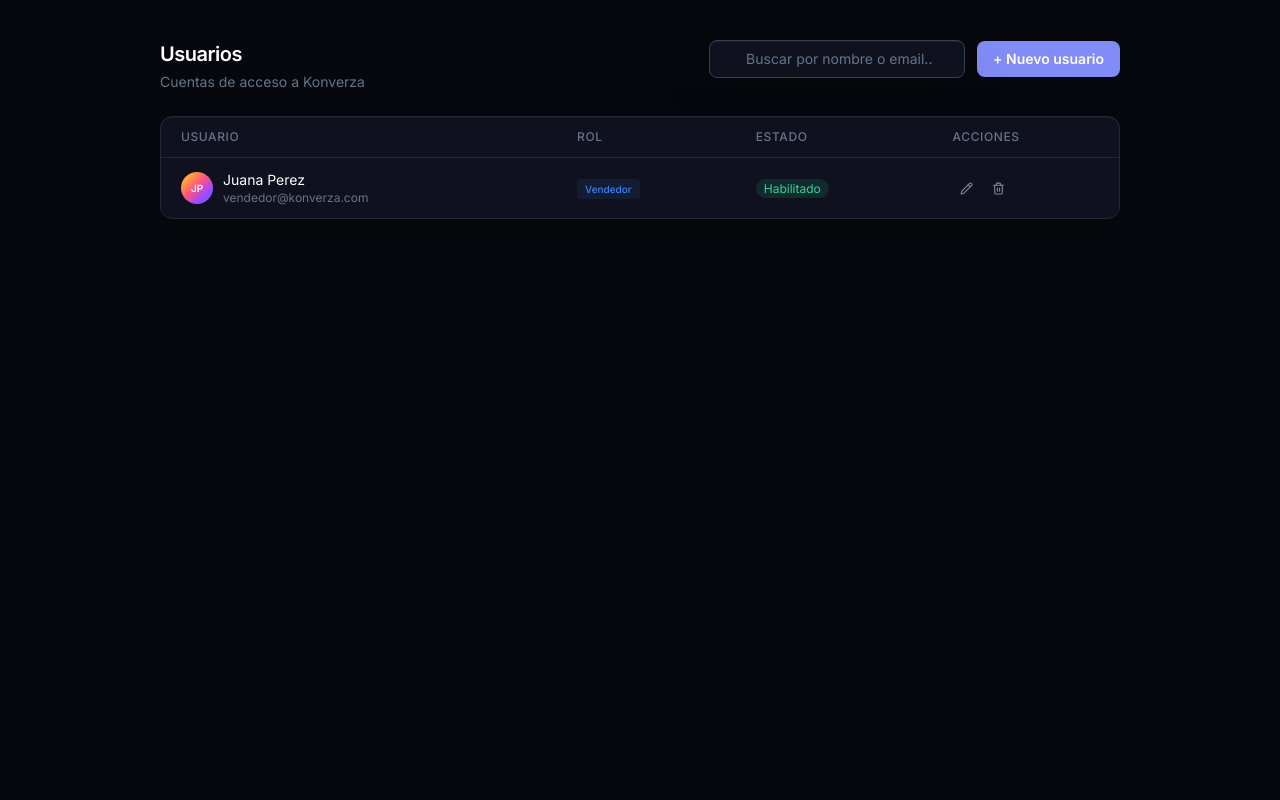
Scenario: UsersScreen › create form collects first name, last name, email, and password
This screenshot has width=1280, height=800.
Expected: the text "Juana Perez" is shown, [223,171,305,188]
What coordinates should you click on to do the following:
click the button "+ Nuevo usuario"
I would click on:
 (1049, 59)
Its box is [977,41,1120,77].
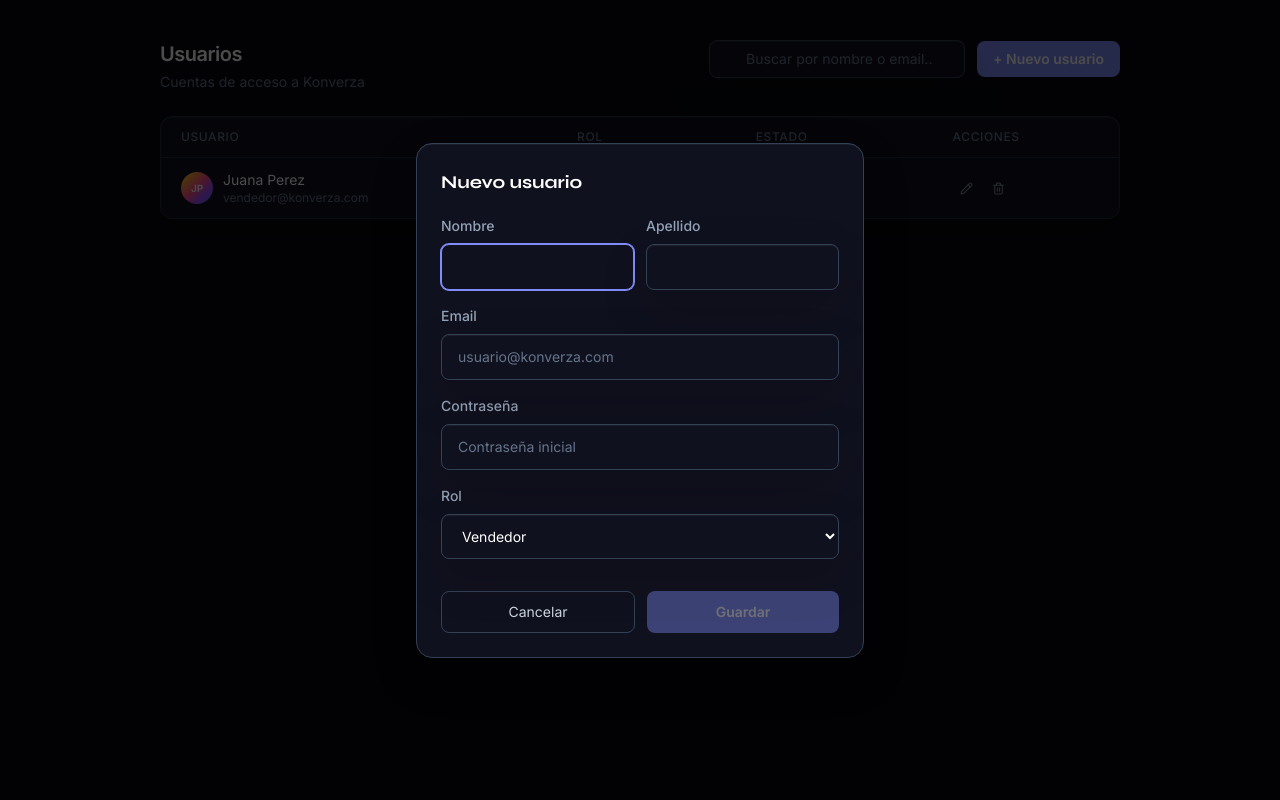
Expected: the field labelled "Nombre" is shown, [441,244,634,290]
Expected: the field labelled "Apellido" is shown, [646,244,839,290]
Expected: the field labelled "Email" is shown, [441,334,839,380]
